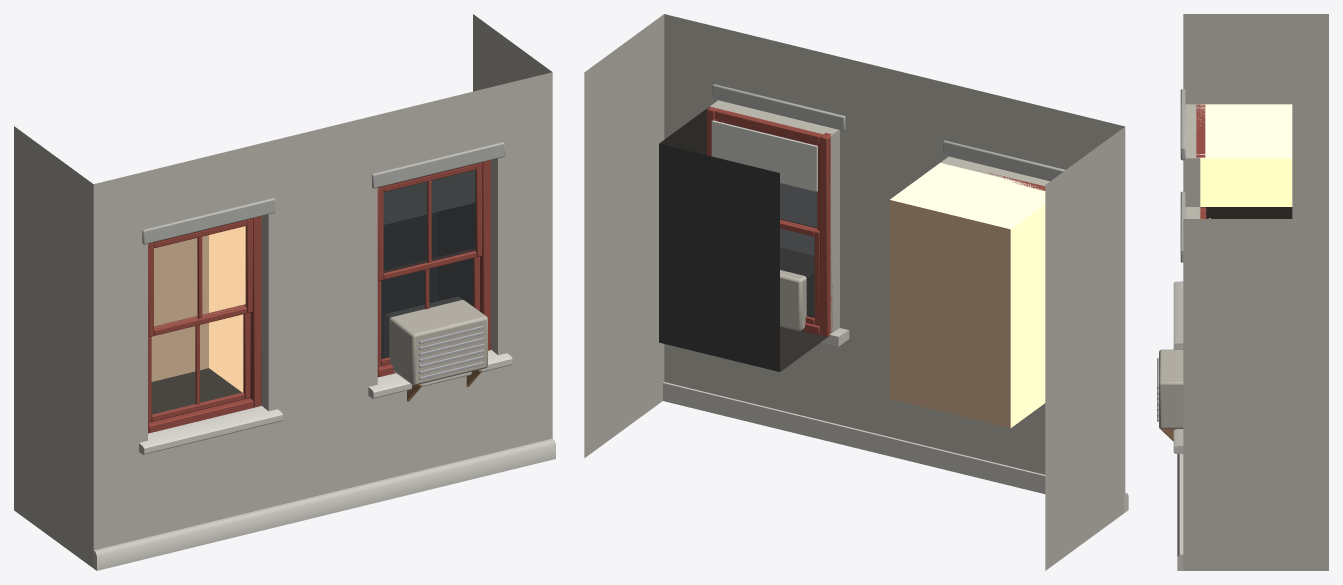
The model's file is upper_4e.glb.
3 renders of one model, left to right at view 1: azimuth 30°, elevation 25°; view 2: azimuth 150°, elevation 25°; view 3: azimuth 270°, elevation 25°, orthographic. The views are drawn at different scales.
Parts seen in each view (by area): view 1: upper_4e; view 2: upper_4e; view 3: upper_4e.
Boxes of the visible parts, x1=… form: upper_4e: x1=14, y1=14, x2=555, y2=570; upper_4e: x1=584, y1=14, x2=1128, y2=570; upper_4e: x1=1157, y1=14, x2=1328, y2=570.
Size of the model in its own units: 4 by 3.2 by 1.42.
